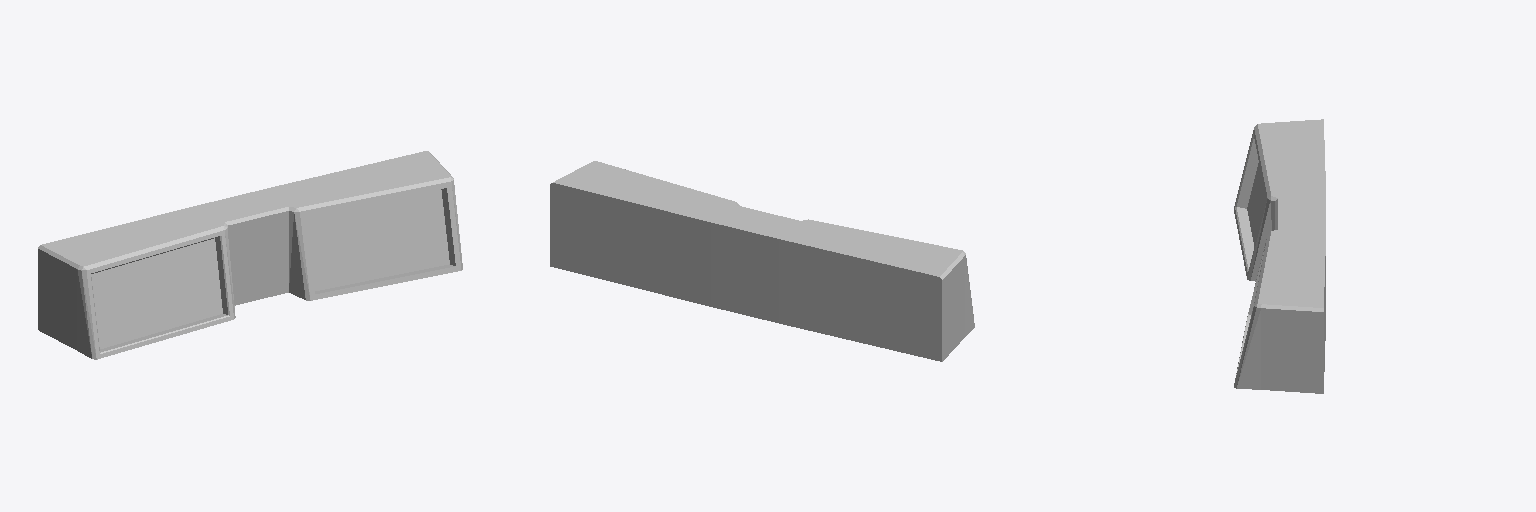
The model's file is stul_2.obj.
The picture shows the model from 3 angles: view 1: azimuth 30°, elevation 25°; view 2: azimuth 150°, elevation 25°; view 3: azimuth 270°, elevation 25°; orthographic projection.
Visible parts, largest first — view 1: Cube.010; view 2: Cube.010; view 3: Cube.010.
Part boxes in pixels (left/top/right/bottom): Cube.010: left=38, top=151, right=462, bottom=359; Cube.010: left=550, top=161, right=974, bottom=361; Cube.010: left=1234, top=119, right=1325, bottom=393.
Size of the model in its own units: 11.54 by 2.37 by 2.36.